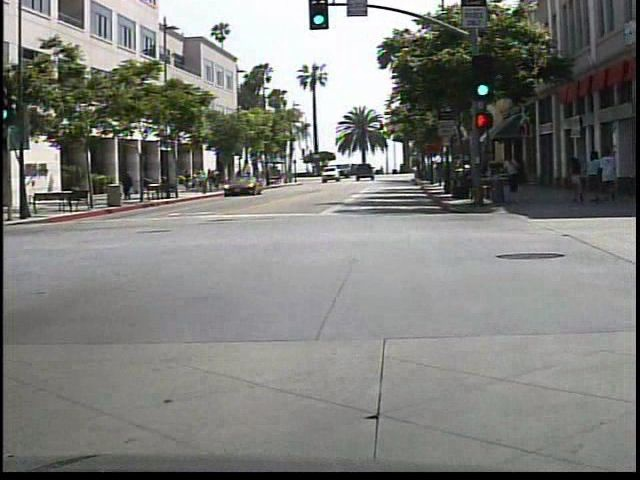person: (499, 152, 523, 197), (122, 169, 134, 202)
